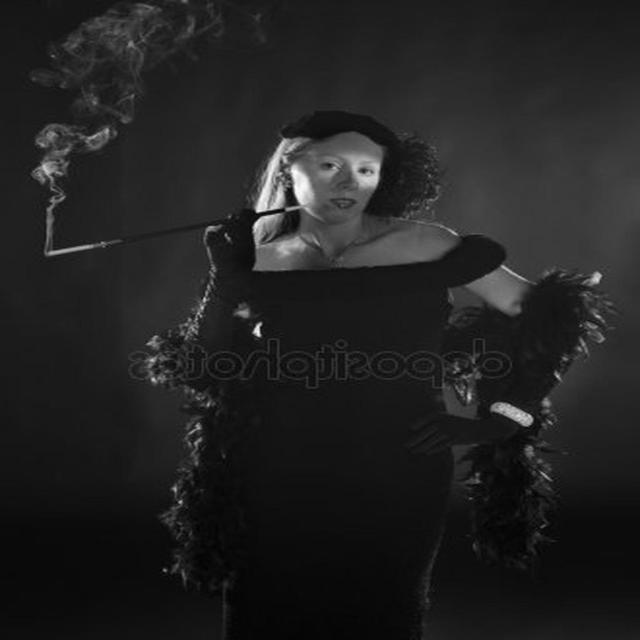smoking: (39, 136, 392, 270)
